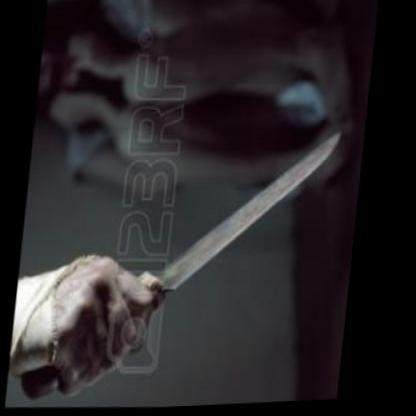knife: (74, 117, 349, 380)
